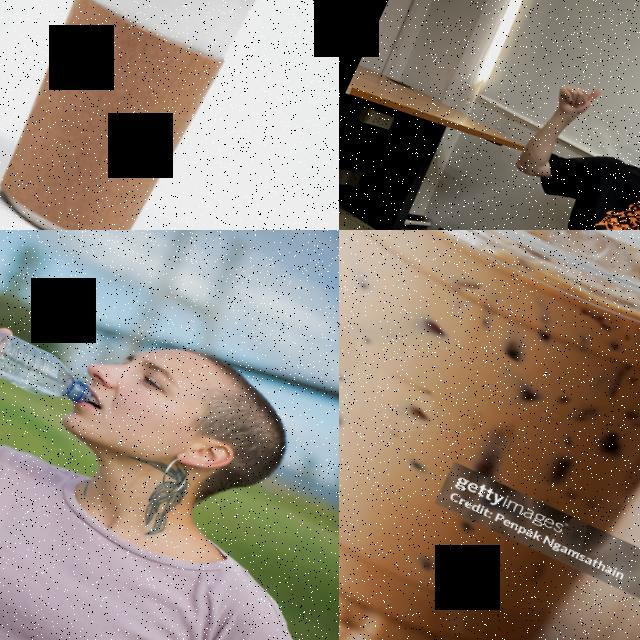bottle: (0, 304, 116, 429)
cup: (339, 230, 640, 640), (0, 0, 311, 230)
